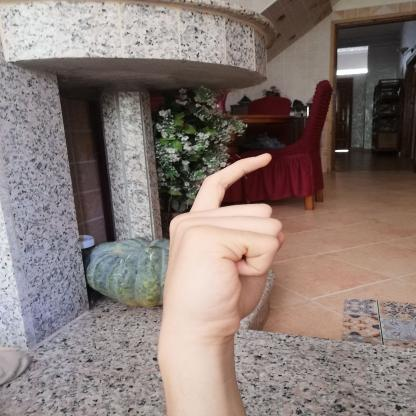RAA: (144, 142, 290, 350)
